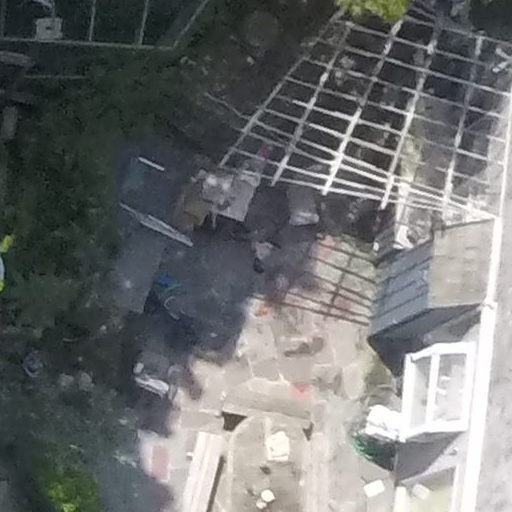container: (259, 486, 276, 510)
hose: (354, 398, 406, 468)
